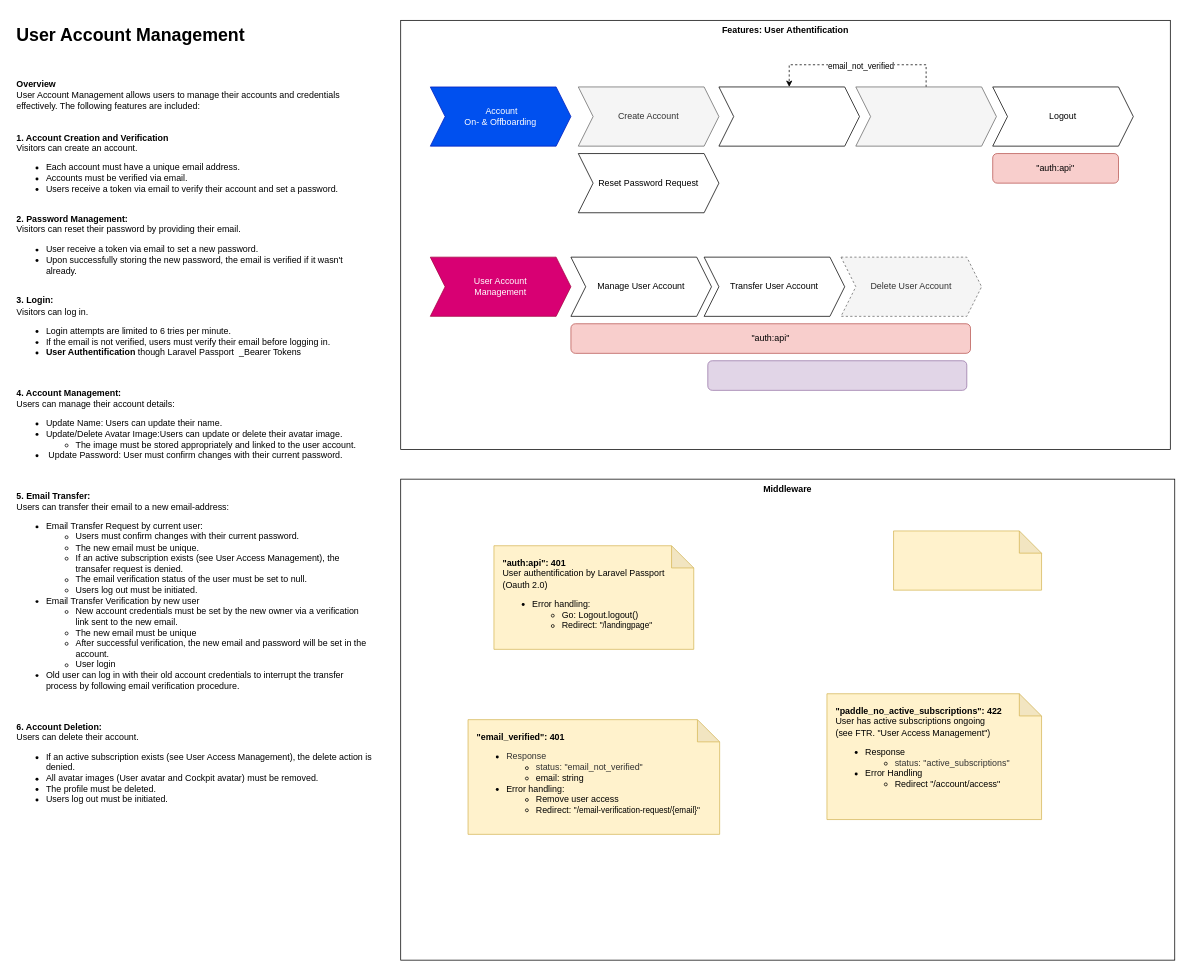
The diagram is 1188 pixels wide and 973 high, and some of its shapes have lost their labels. The centre of each missing label's shape, as x and y in pixels:
"paddle_no_active_subscriptions ": point 837,375
"throttle: 3,1": 422 Too many attempts: point 967,560
E-Mail verification: point 789,116
Login: point 925,116
